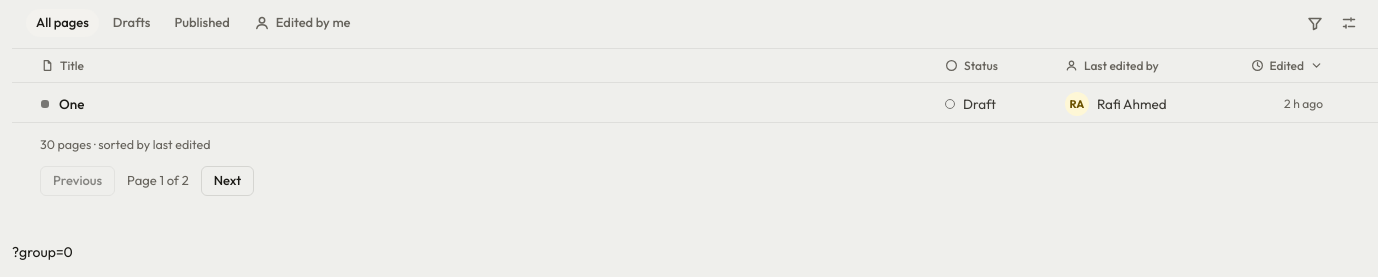
team pages list › pagesTwentyFiveAtATimeWithPreviousAndNext
The image size is (1378, 277).
Expected: the text "Page 1 of 2" is shown, [127, 171, 189, 190]
Expected: the button "Previous" is disabled, [40, 166, 115, 196]
Click the button "Next": point(227, 181) [201, 166, 254, 196]
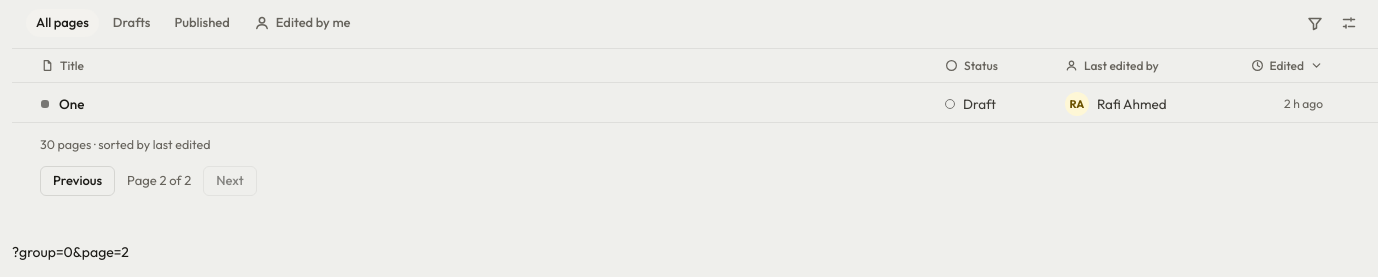
Now the text with test id "where" reads "?group=0&page=2", box [12, 243, 129, 261]
